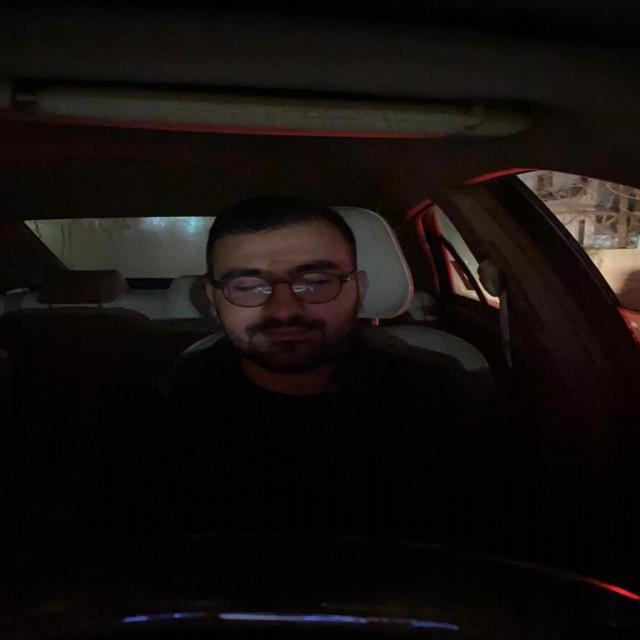drowsy: (196, 189, 372, 381)
